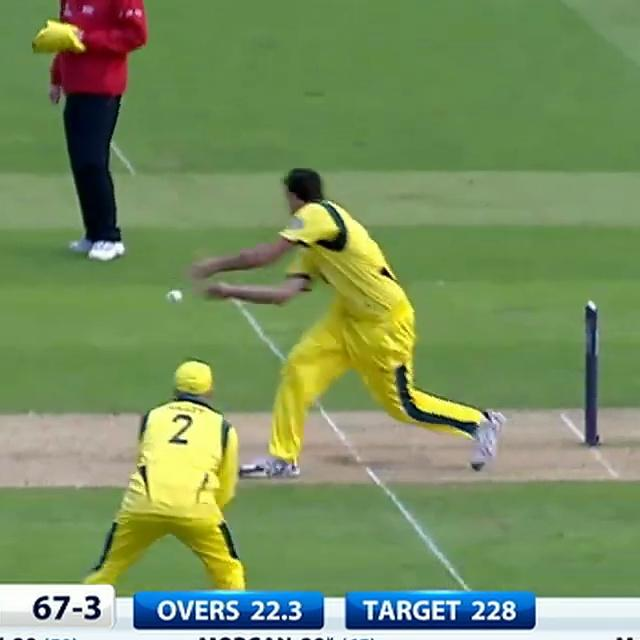person: (21, 0, 162, 265)
